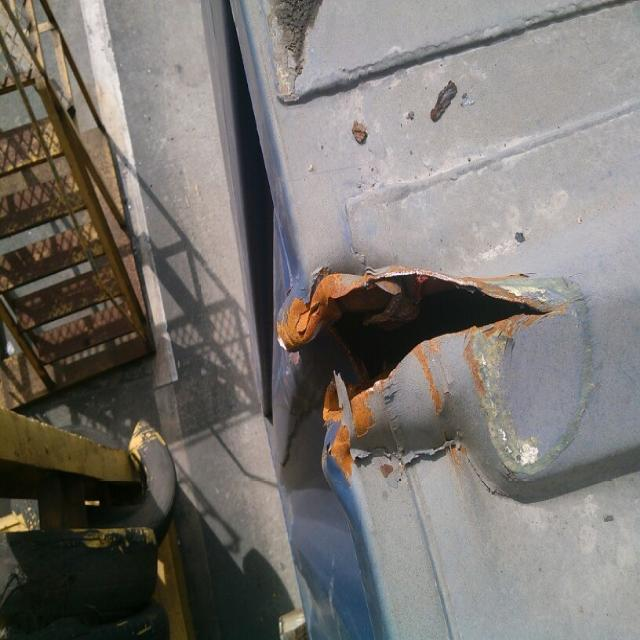hole: (285, 247, 566, 410)
